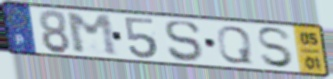5: (124, 16, 160, 60)
8: (37, 8, 72, 56)
M: (64, 12, 122, 58)
Q: (215, 24, 255, 65)
S: (255, 26, 296, 70), (163, 20, 204, 63)
